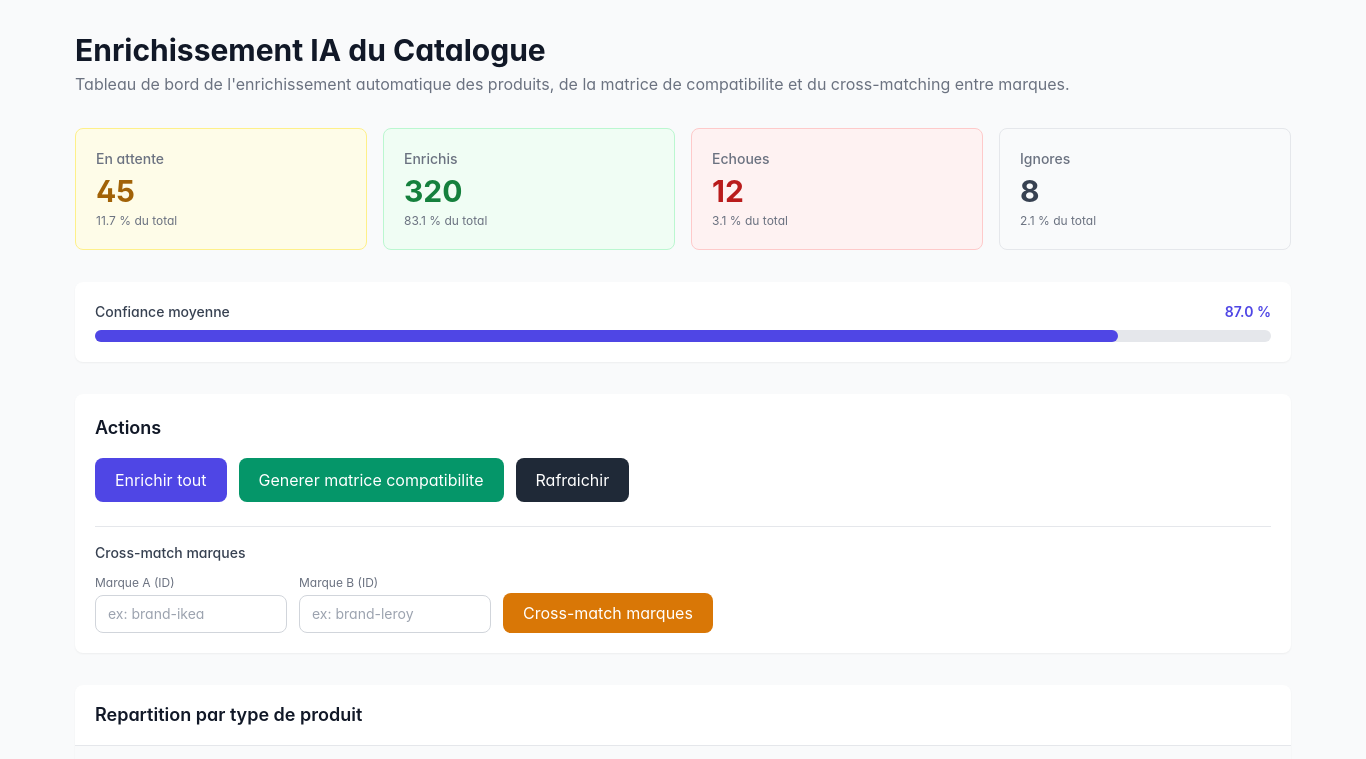
EnrichmentDashboard › Action Buttons › should show error message when action fails
Click the button "Enrichir tout" at (161, 480), box [95,458,226,502]
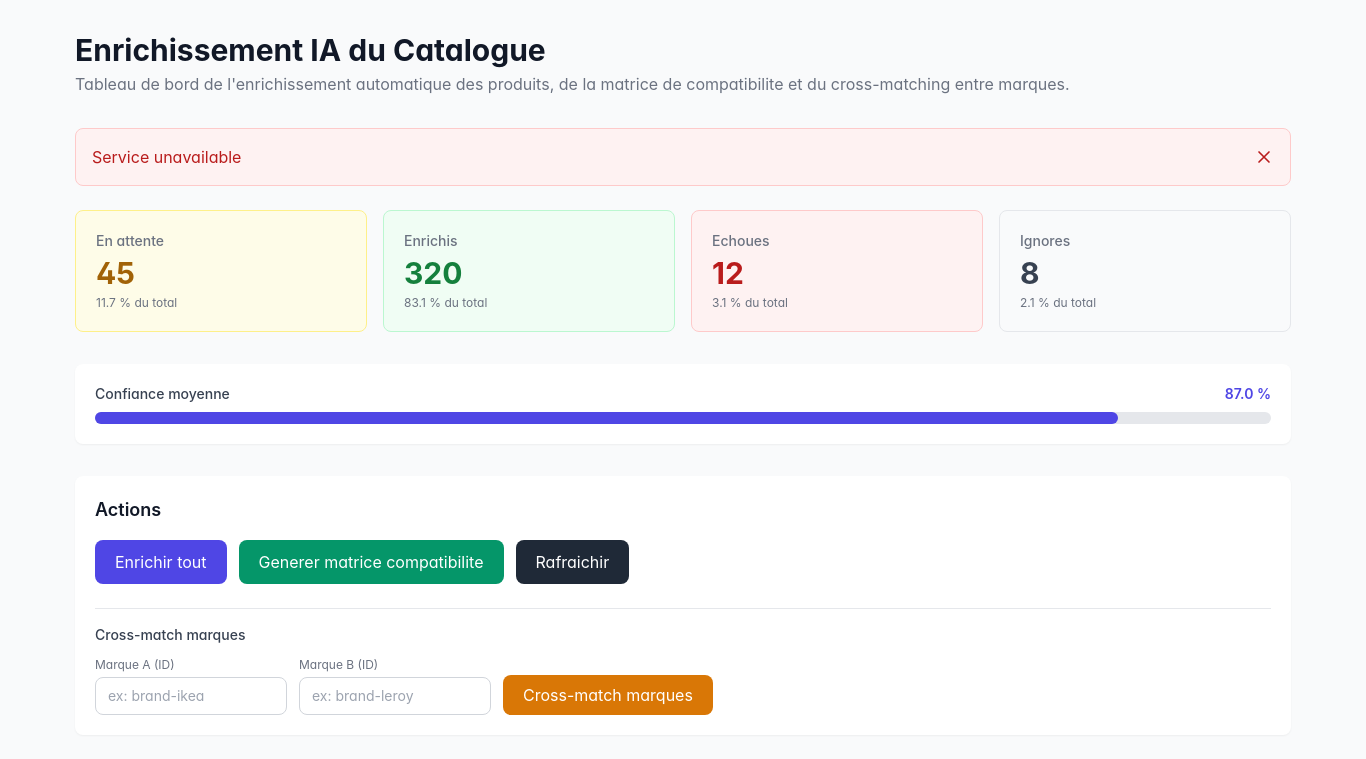
Now the text "Service unavailable" is shown, box [92,145,241,169]
